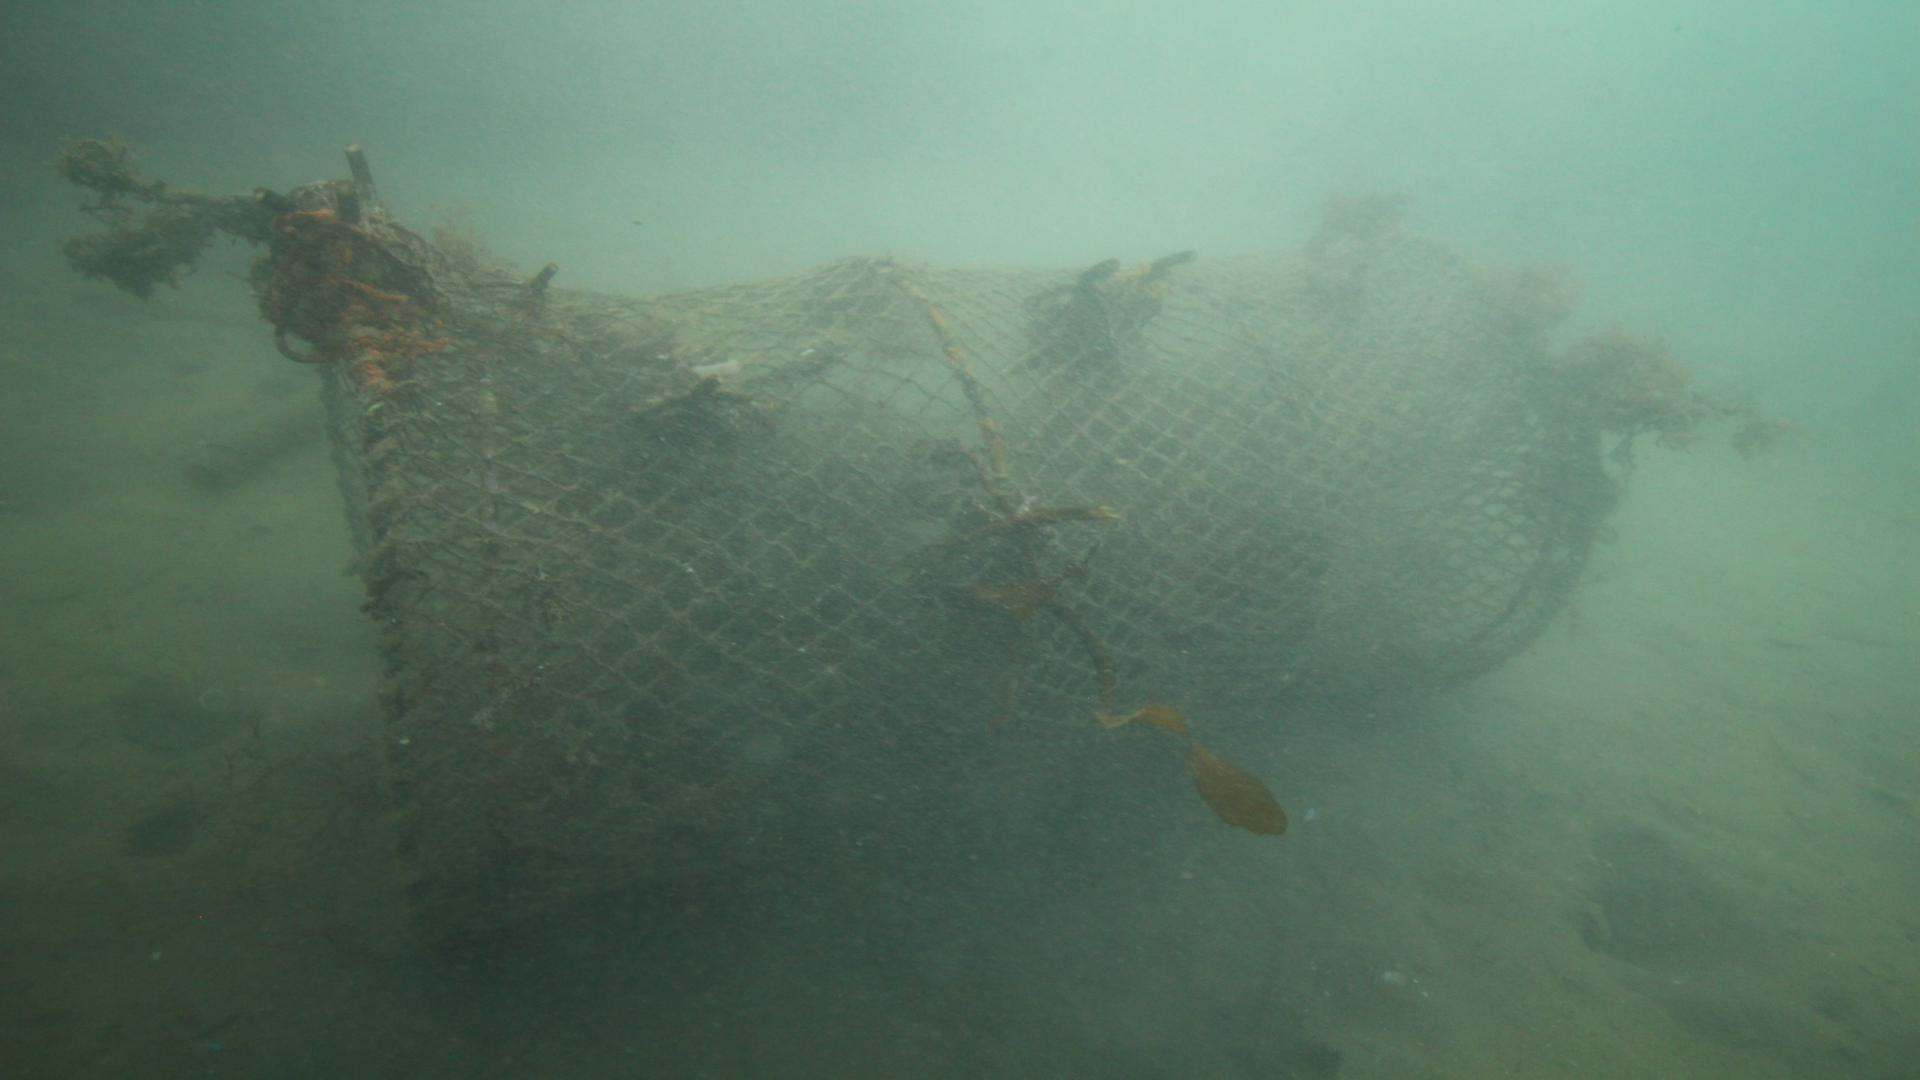spring fish trap: (311, 185, 1602, 965)
